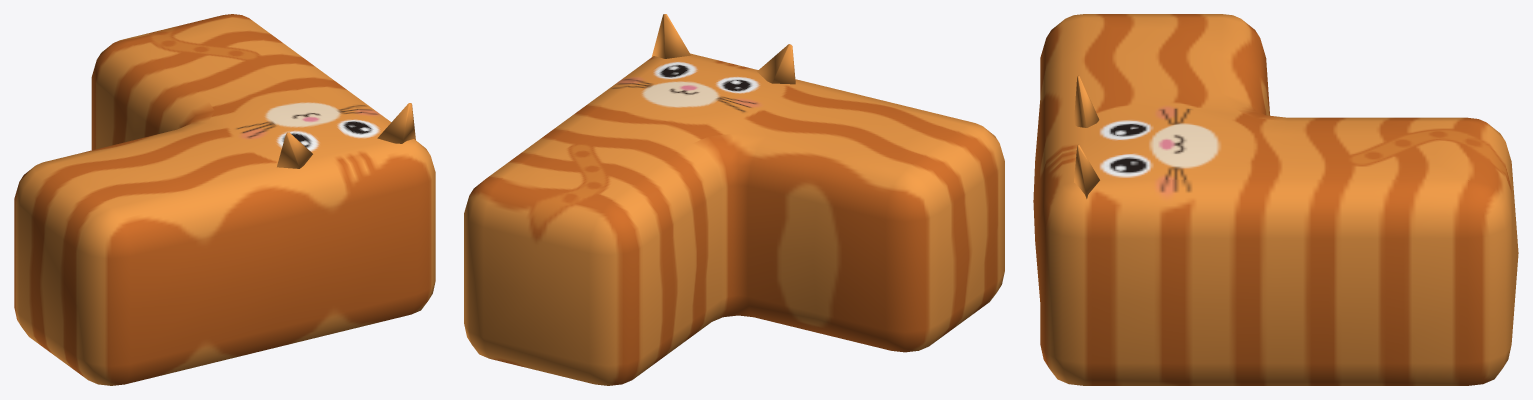
File: Cat_Corner.fbx
3 views of the same model, side by side, from view 1: azimuth 30°, elevation 25°; view 2: azimuth 150°, elevation 25°; view 3: azimuth 270°, elevation 25° (orthographic). The views are drawn at different scales.
Visible parts, largest first — view 1: Cat_Corner; view 2: Cat_Corner; view 3: Cat_Corner.
Part boxes in pixels (x1=…): Cat_Corner: x1=14, y1=14, x2=435, y2=385; Cat_Corner: x1=464, y1=14, x2=1004, y2=385; Cat_Corner: x1=1033, y1=14, x2=1518, y2=385.
Size of the model in its own units: 1.98 by 1.05 by 1.98.
1 material, 1 textured.
